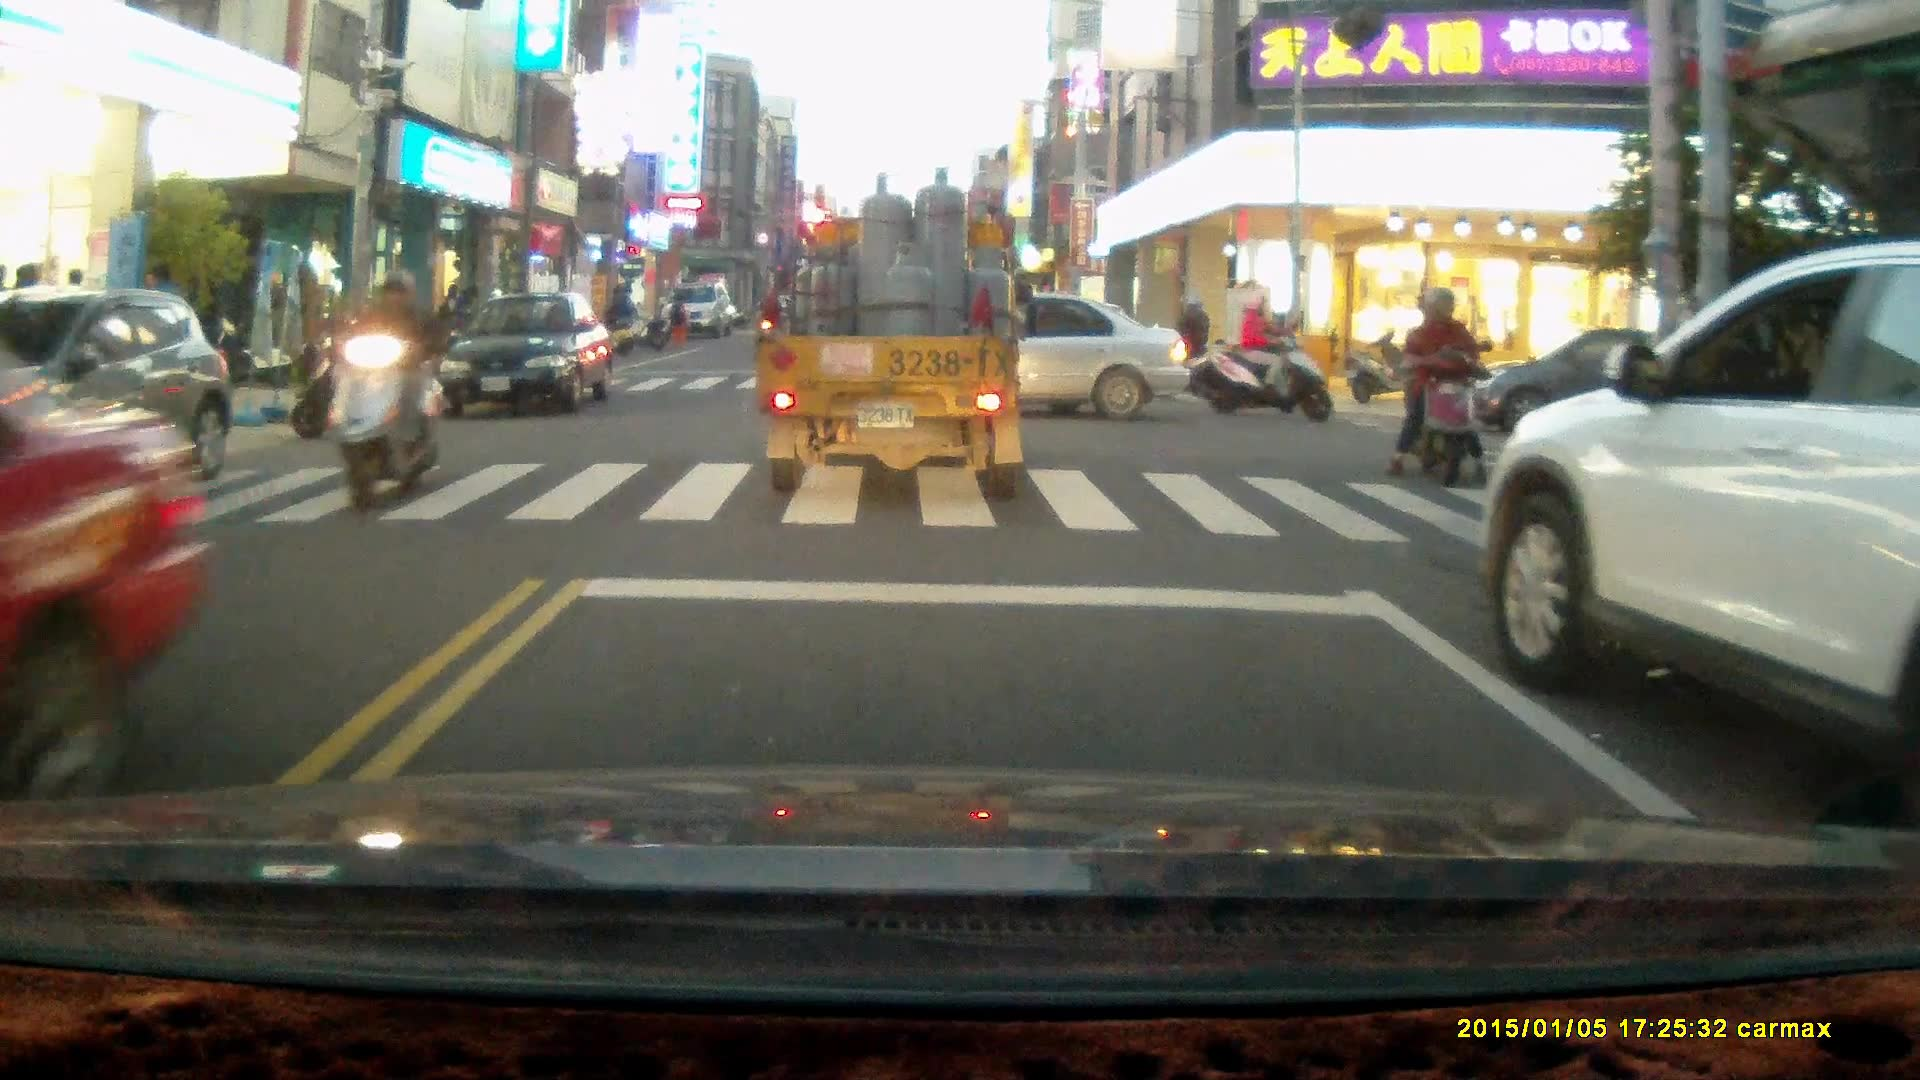pedestrian: (610, 281, 637, 344), (667, 290, 689, 347)
rider: (320, 266, 442, 509), (1383, 285, 1500, 491), (1203, 288, 1335, 418), (1130, 290, 1225, 401)
vehicle: (1484, 239, 1920, 832), (761, 176, 1028, 511), (804, 289, 1191, 420), (441, 293, 617, 415), (660, 282, 732, 336)
